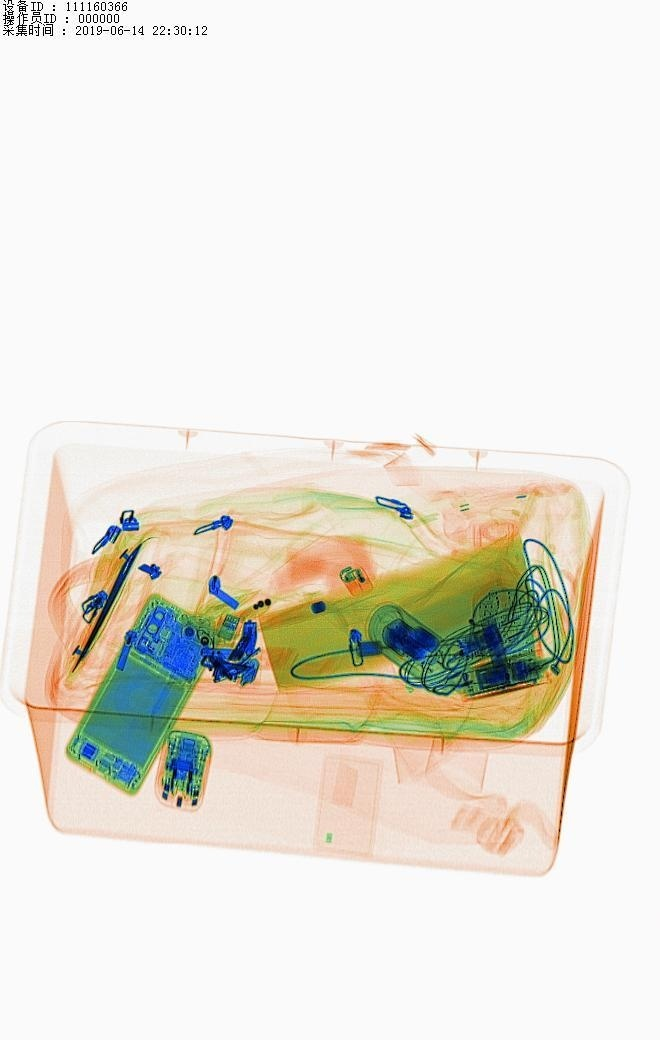NonmetallicFire: (331, 558, 372, 610)
